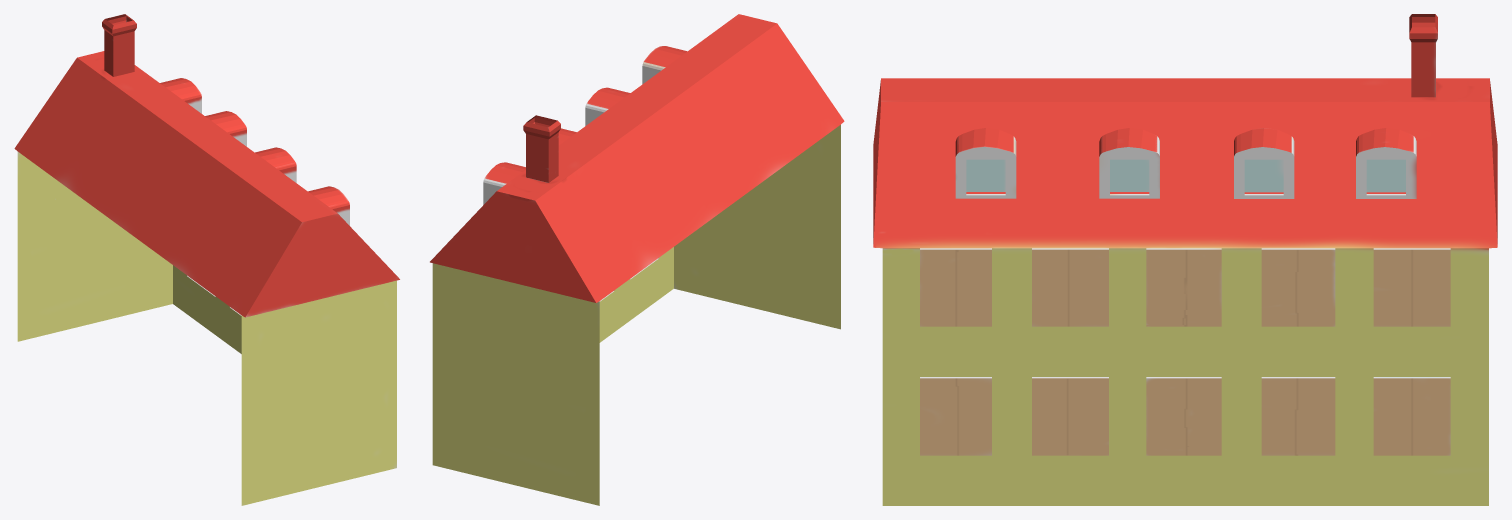
Rendered from House3right.fbx.
3 renders of one model, left to right at view 1: azimuth 30°, elevation 25°; view 2: azimuth 150°, elevation 25°; view 3: azimuth 270°, elevation 25°, orthographic. The views are drawn at different scales.
Parts seen in each view (by area): view 1: Cube; view 2: Cube; view 3: Cube.
Part boxes in pixels (x1,y1,x2,y2): Cube: [14, 14, 399, 505]; Cube: [430, 14, 844, 505]; Cube: [873, 14, 1497, 505].
Size of the model in its own units: 810 by 1580 by 2059.
